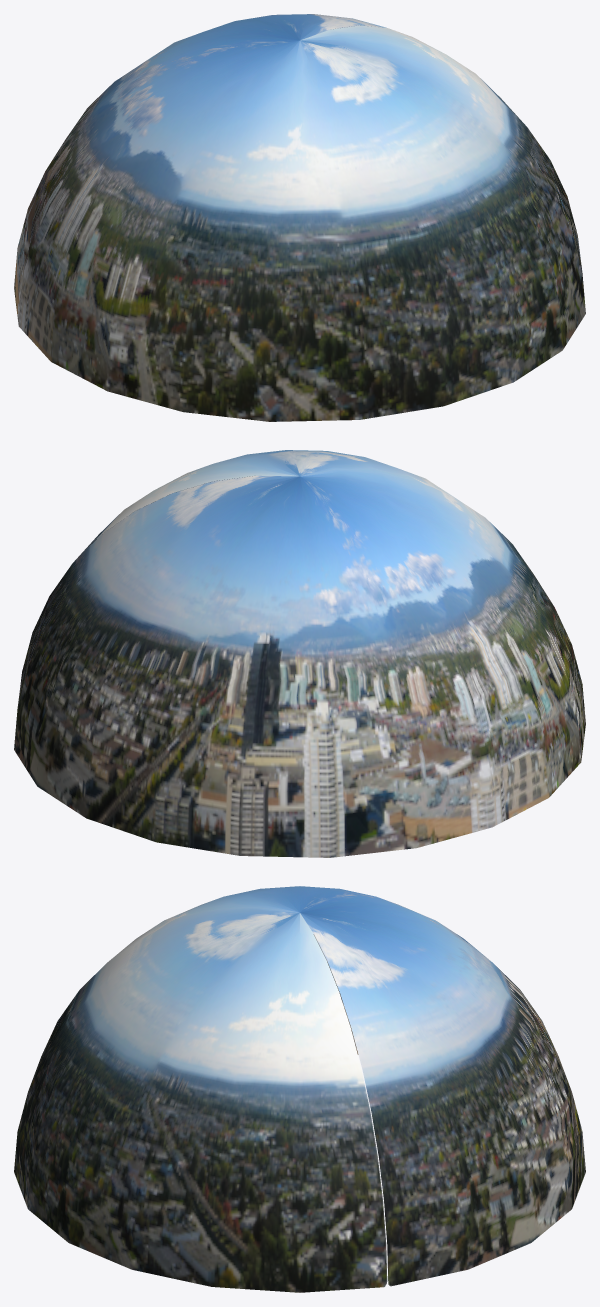
Rendered from DomeTEST3.fbx.
3 views of the same model, one above another, from view 1: azimuth 30°, elevation 25°; view 2: azimuth 150°, elevation 25°; view 3: azimuth 270°, elevation 25° (orthographic).
Visible parts, largest first — view 1: pSphere1; view 2: pSphere1; view 3: pSphere1.
Boxes of the visible parts, x1,y1,x2,y2 form: pSphere1: (14, 14, 585, 421); pSphere1: (14, 450, 585, 857); pSphere1: (14, 886, 585, 1292).
Bounding box in the file's own units: 200 × 100 × 200.
1 material, 1 textured.
